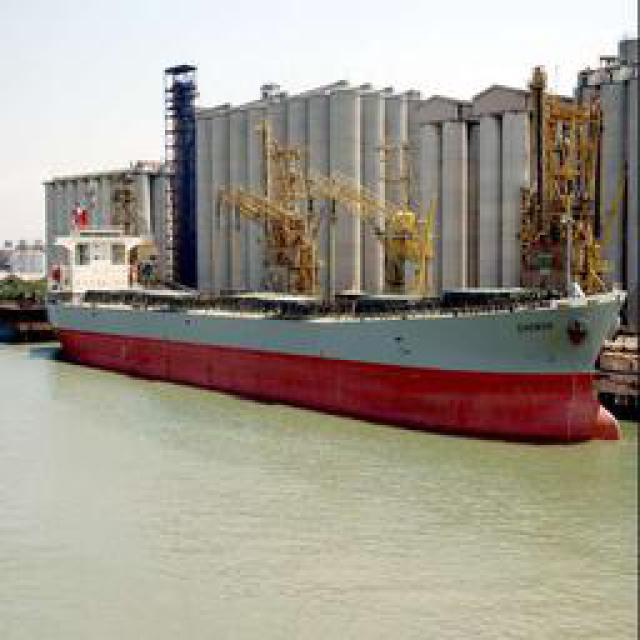Ship: (34, 192, 624, 440)
